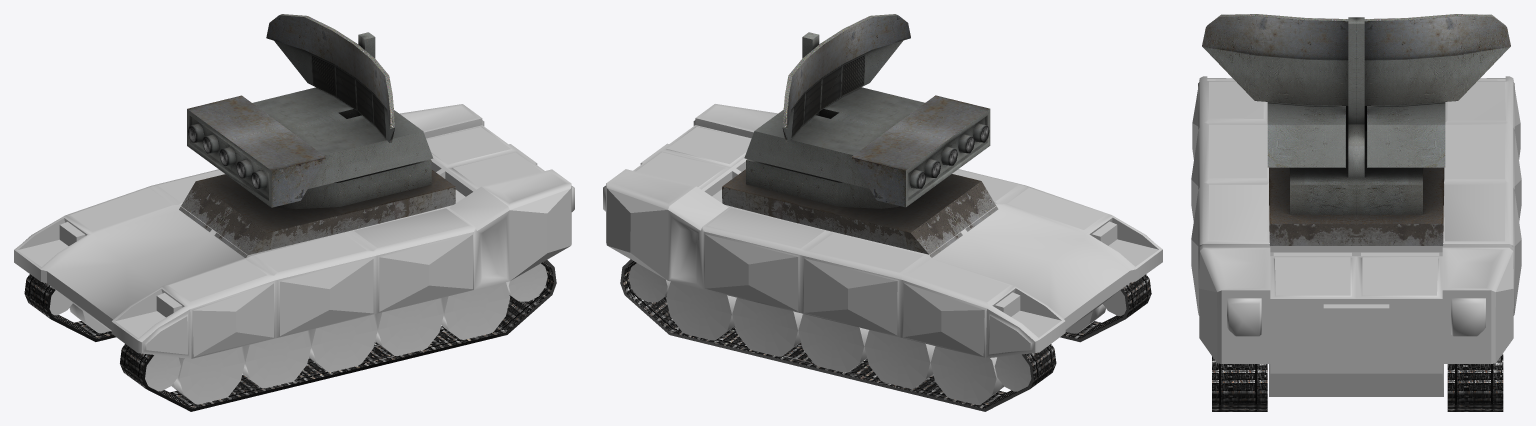
The model's file is Tank2_lod1.FBX.
3 renders of one model, left to right at view 1: azimuth 30°, elevation 25°; view 2: azimuth 150°, elevation 25°; view 3: azimuth 270°, elevation 25°, orthographic. The views are drawn at different scales.
Visible parts, largest first — view 1: tank08, tank2_gun01, Object28, wheel118, wheel120, wheel115, wheel121, wheel119, wheel122, wheel117; view 2: tank08, tank2_gun01, Object28, wheel114, wheel109, wheel111, wheel113, wheel112, wheel116, wheel110; view 3: tank08, tank2_gun01, Object28.
Boxes of the visible parts, <box> form: tank08: <box>14,104,574,358</box>; tank2_gun01: <box>179,14,455,257</box>; Object28: <box>24,260,556,411</box>; wheel118: <box>171,347,244,404</box>; wheel120: <box>307,314,377,372</box>; wheel115: <box>440,282,510,339</box>; wheel121: <box>373,298,443,355</box>; wheel119: <box>241,331,311,388</box>; wheel122: <box>506,263,547,301</box>; wheel117: <box>145,355,180,391</box>; tank08: <box>603,104,1162,358</box>; tank2_gun01: <box>722,14,998,257</box>; Object28: <box>620,259,1151,411</box>; wheel114: <box>732,298,802,356</box>; wheel109: <box>666,281,736,340</box>; wheel111: <box>930,346,1003,404</box>; wheel113: <box>798,314,869,372</box>; wheel112: <box>864,330,935,388</box>; wheel116: <box>628,263,670,302</box>; wheel110: <box>994,354,1031,391</box>; tank08: <box>1191,76,1521,396</box>; tank2_gun01: <box>1202,14,1510,245</box>; Object28: <box>1212,353,1503,411</box>.
Size of the model in its own units: 7.06 by 4.17 by 3.65.
